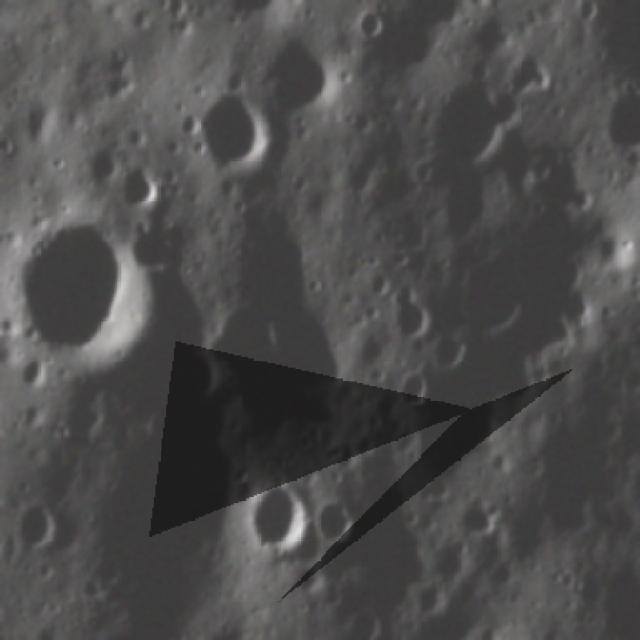crater: (4, 213, 164, 375), (416, 73, 512, 172), (449, 241, 531, 339), (182, 93, 280, 175), (258, 28, 338, 123), (241, 473, 317, 559), (380, 278, 442, 337), (586, 222, 639, 284), (8, 499, 68, 553), (119, 152, 172, 208), (310, 494, 364, 548), (85, 132, 132, 188), (606, 85, 640, 160), (386, 364, 434, 411), (456, 492, 498, 542), (424, 326, 465, 371), (348, 3, 388, 46)
